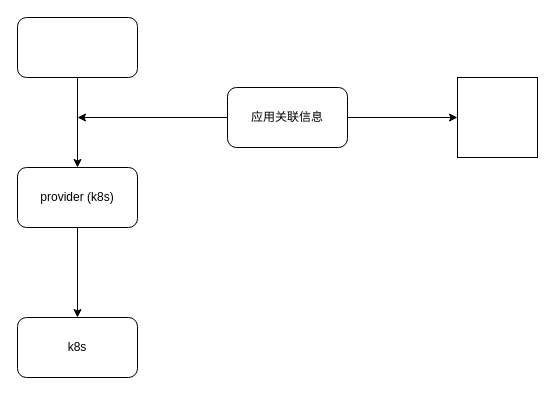
The diagram is 555 pixels wide and 395 high, and some of its shapes have lost their labels. The shapes that lost their labels are listed below. From the top down, each one's box as (x1, y1, x2, y2) in pixels, then its label:
(16, 16, 138, 78): proxy (http)
(456, 76, 538, 158): mcenter (apps)
